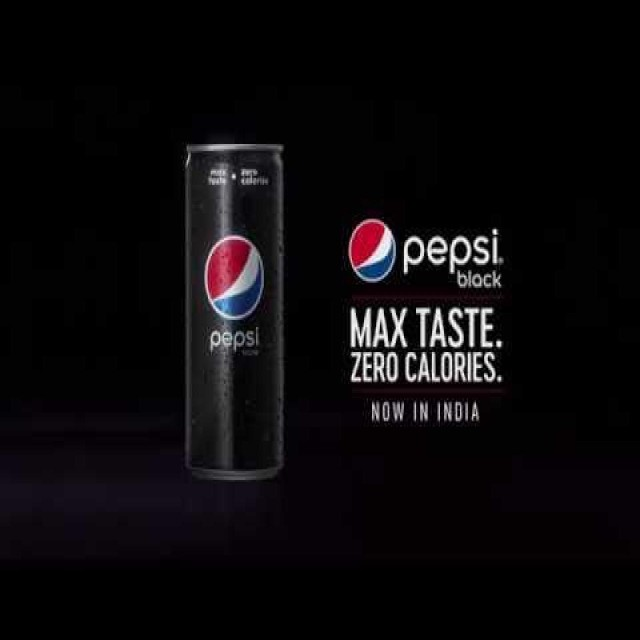pepsi: (202, 234, 267, 319), (346, 218, 399, 284)
